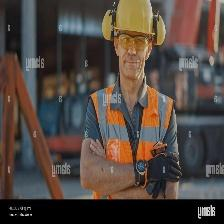Person: (79, 1, 179, 201)
helmet: (112, 1, 156, 37)
vest: (84, 82, 177, 199)
